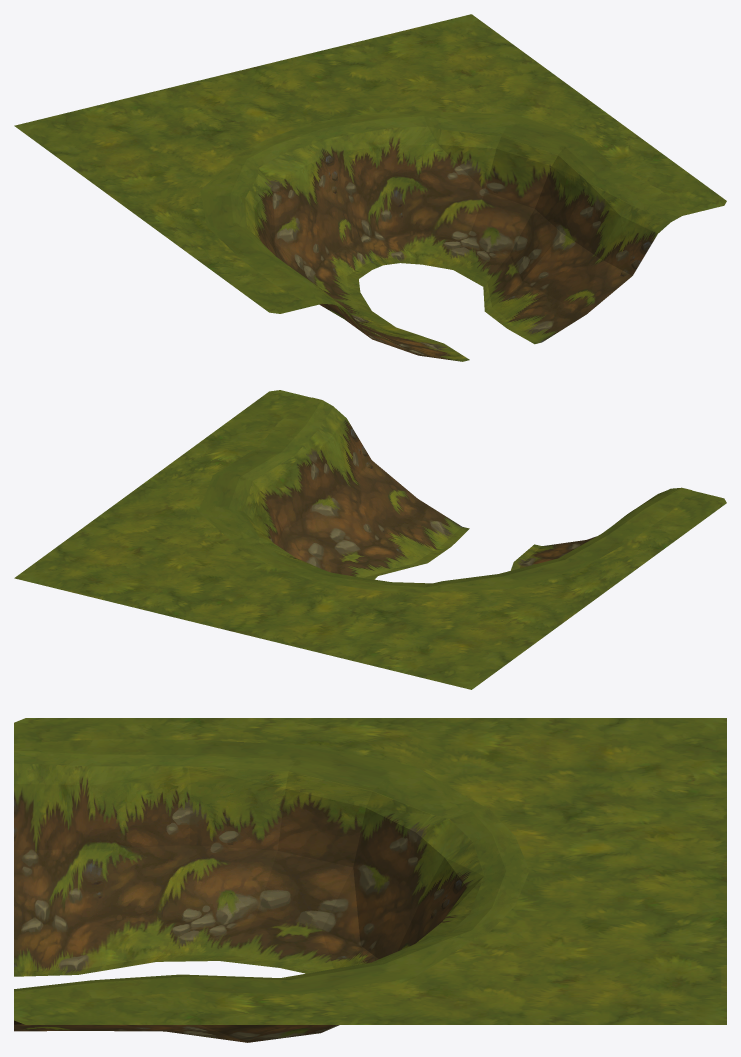
The model's file is tundra_niche_basecap01.fbx.
3 views of the same model, one above another, from view 1: azimuth 30°, elevation 25°; view 2: azimuth 150°, elevation 25°; view 3: azimuth 270°, elevation 25° (orthographic). The views are drawn at different scales.
Parts seen in each view (by area): view 1: obj2.001; view 2: obj2.001; view 3: obj2.001.
Part boxes in pixels (x1,y1,x2,y2): obj2.001: (14,14,726,361); obj2.001: (14,390,726,689); obj2.001: (14,718,726,1042).
Bounding box in the file's own units: 20.64 × 4 × 20.28.
